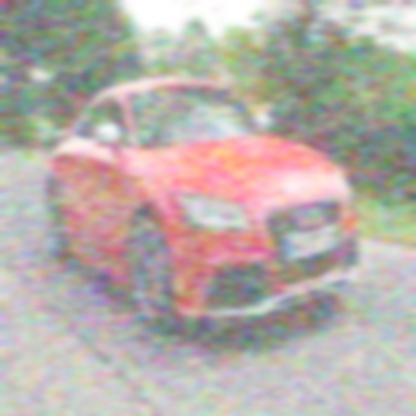Vehicle: (44, 75, 366, 348)
